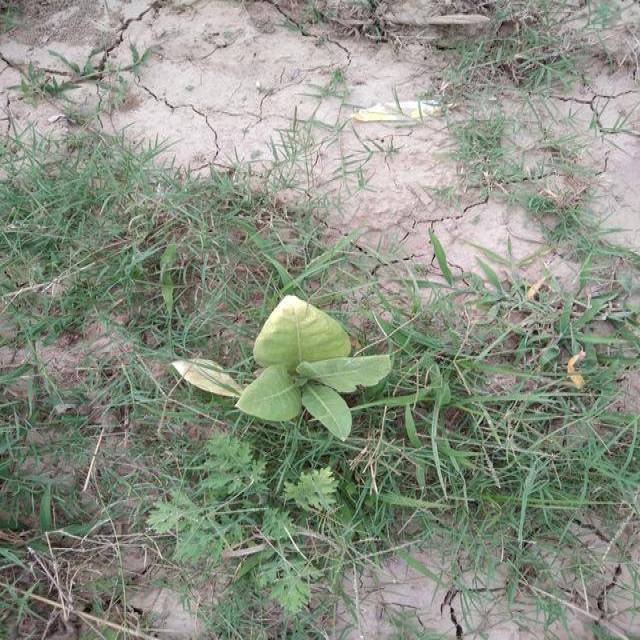crop: (170, 291, 396, 445)
